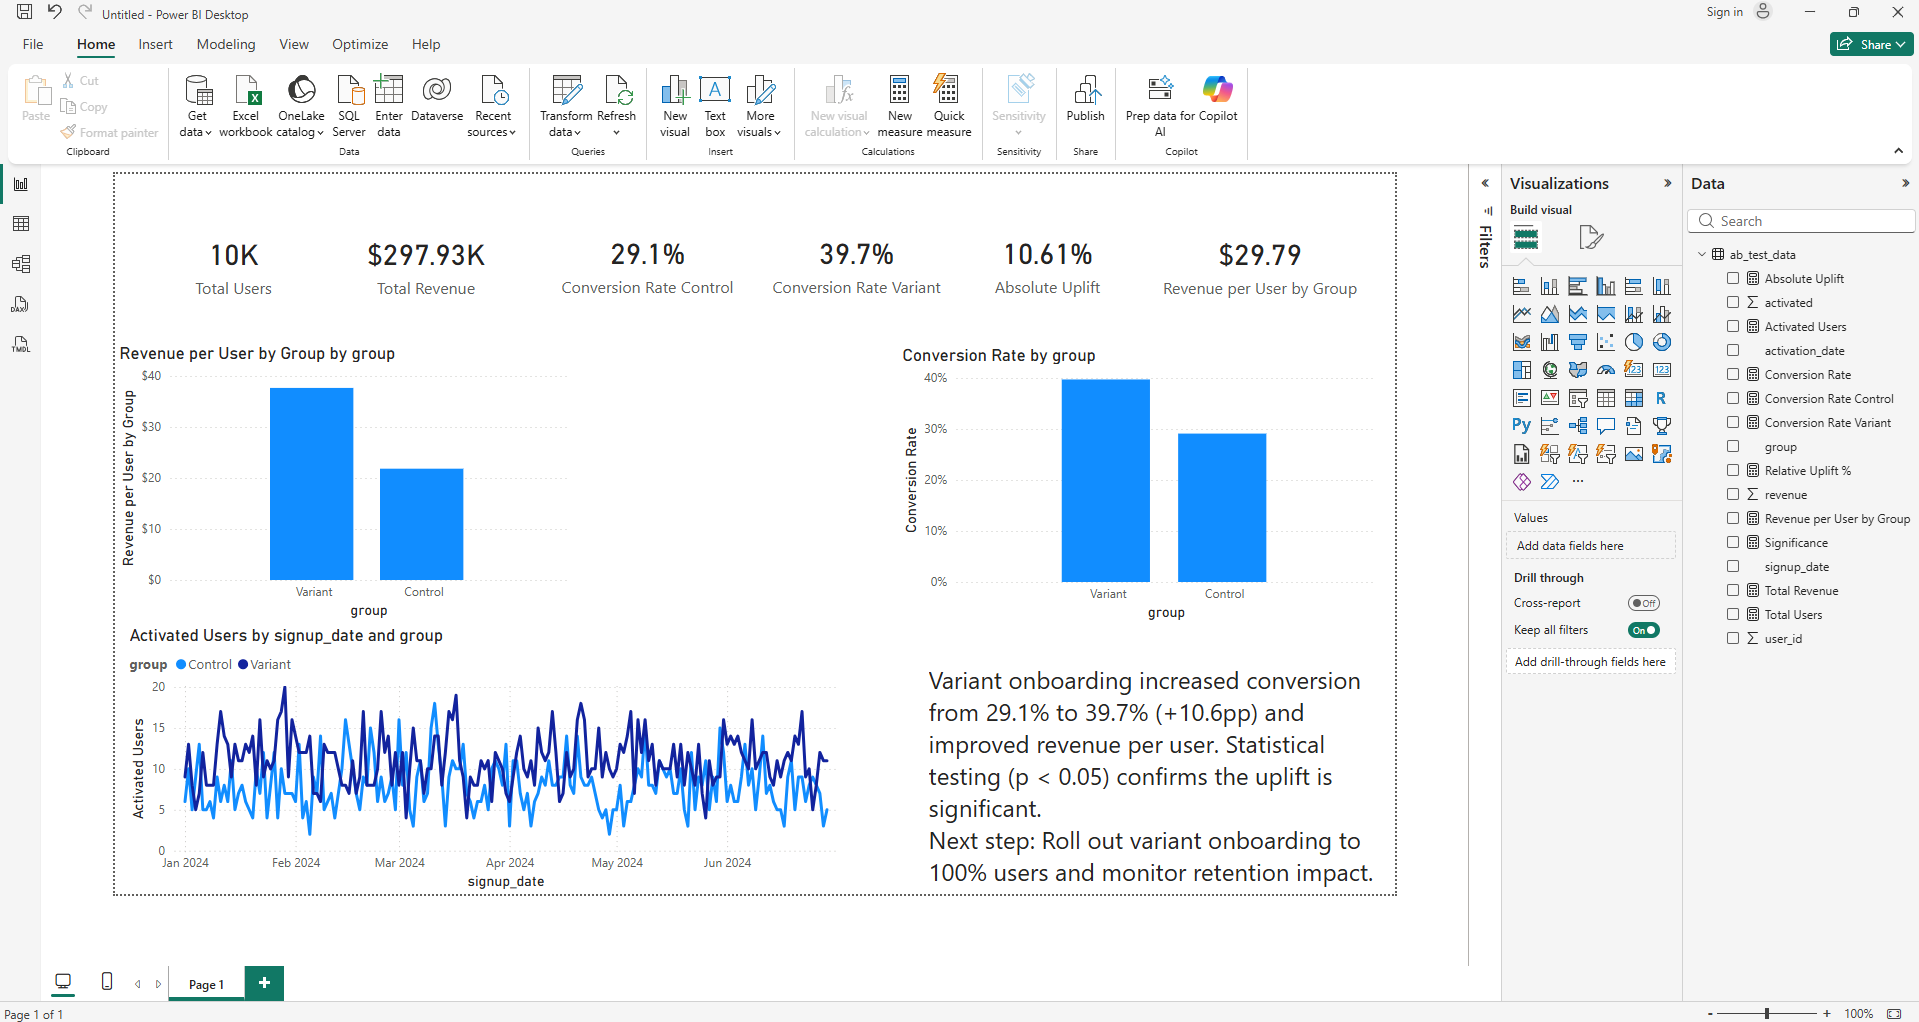

Layout of this report page (visuals, bound fields, positions):
{"tool":"powerbi","page":{"name":"Page 1","canvas":[1280,720],"ordinal":0},"visuals":[{"type":"card","fields":{"Values":["ab_test_data.Total Users"]},"box":[0,8.6,237.1,160],"z":0},{"type":"card","fields":{"Values":["ab_test_data.Conversion Rate Control"]},"box":[441.4,7.1,182.9,161.4],"z":1000},{"type":"card","fields":{"Values":["ab_test_data.Conversion Rate Variant"]},"box":[640,7.1,202.9,161.4],"z":2000},{"type":"card","fields":{"Values":["ab_test_data.Absolute Uplift"]},"box":[831,6,203,164],"z":3000},{"type":"card","fields":{"Values":["ab_test_data.ARPU"]},"box":[1024,13,242,153],"z":4000},{"type":"card","fields":{"Values":["ab_test_data.Total Revenue"]},"box":[189,11,244,157],"z":5000},{"type":"clusteredColumnChart","fields":{"Category":["ab_test_data.group"],"Y":["ab_test_data.Conversion Rate"]},"box":[782.9,171.4,482.9,280],"z":6000},{"type":"clusteredColumnChart","fields":{"Category":["ab_test_data.group"],"Y":["ab_test_data.ARPU"]},"box":[0,168.6,457.1,280],"z":7000},{"type":"lineChart","fields":{"Category":["ab_test_data.signup_date"],"Y":["ab_test_data.Activated Users"],"Series":["ab_test_data.group"]},"box":[10,451.4,731.4,268.6],"z":8000},{"type":"textbox","box":[809,484,471,236],"z":9000}]}

Visuals, with their boxes on the page's 1280x720 design canvas (x1, y1, x2, y2). These are canvas units, not pixel positions in the 1919x1022 screenshot, which may show the page scaled, cropped or inside an application window:
card - ab_test_data.Total Users: 0:9:237:169
card - ab_test_data.Conversion Rate Control: 441:7:624:168
card - ab_test_data.Conversion Rate Variant: 640:7:843:168
card - ab_test_data.Absolute Uplift: 831:6:1034:170
card - ab_test_data.ARPU: 1024:13:1266:166
card - ab_test_data.Total Revenue: 189:11:433:168
clusteredColumnChart - ab_test_data.group x ab_test_data.Conversion Rate: 783:171:1266:451
clusteredColumnChart - ab_test_data.group x ab_test_data.ARPU: 0:169:457:449
lineChart - ab_test_data.signup_date x ab_test_data.Activated Users: 10:451:741:720
textbox: 809:484:1280:720
